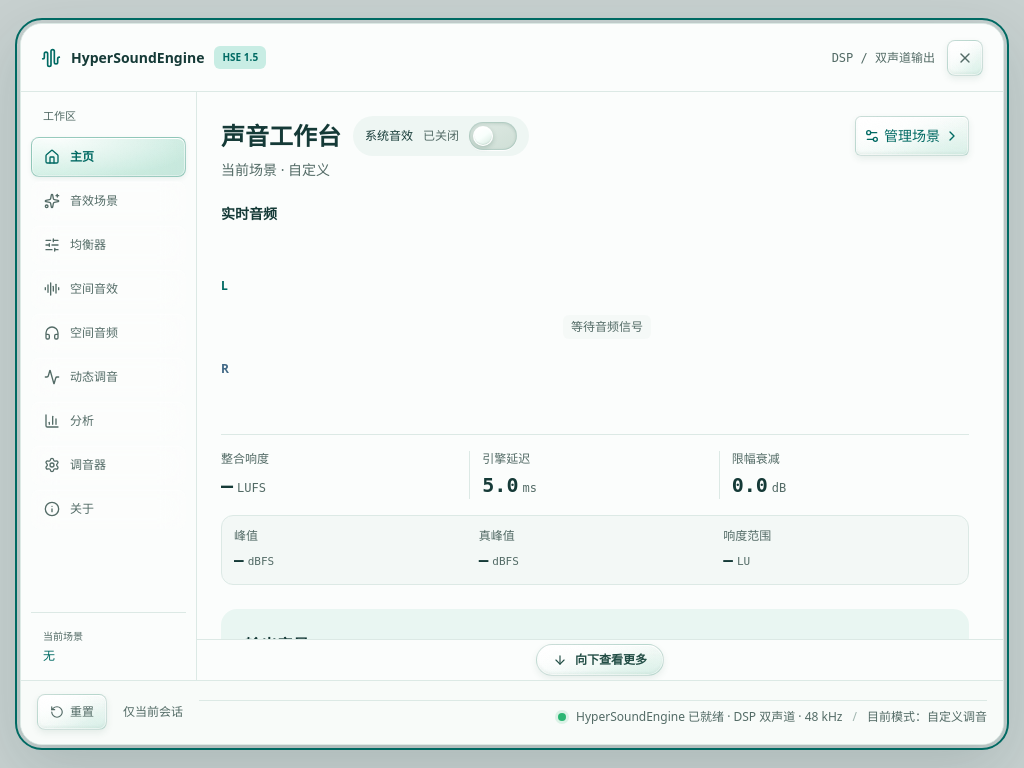
Test: HSE 调音室 UI 冒烟 › 耳机交叉馈送可从音效场景页启用并打开配置
This screenshot has width=1024, height=768.
Click the button "音效场景" at {"x": 108, "y": 200}, box [31,180,186,220]
(page scrolled)
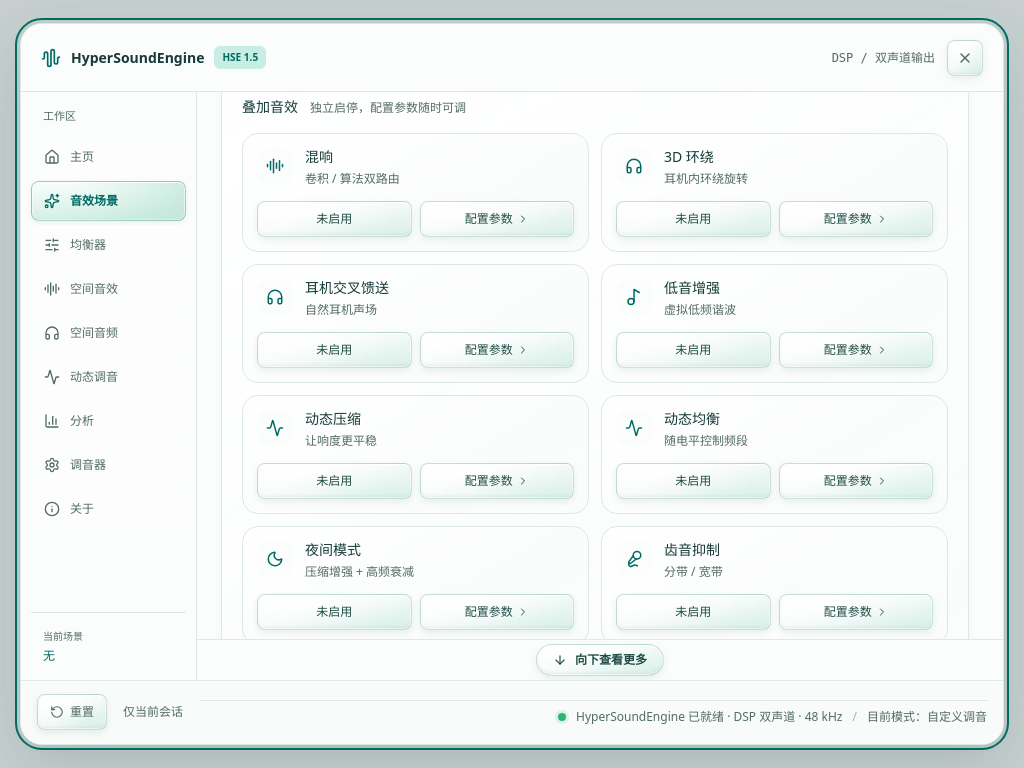
Click the button with aria-label "耳机交叉馈送启停" at {"x": 334, "y": 350}, box [257,332,412,368]
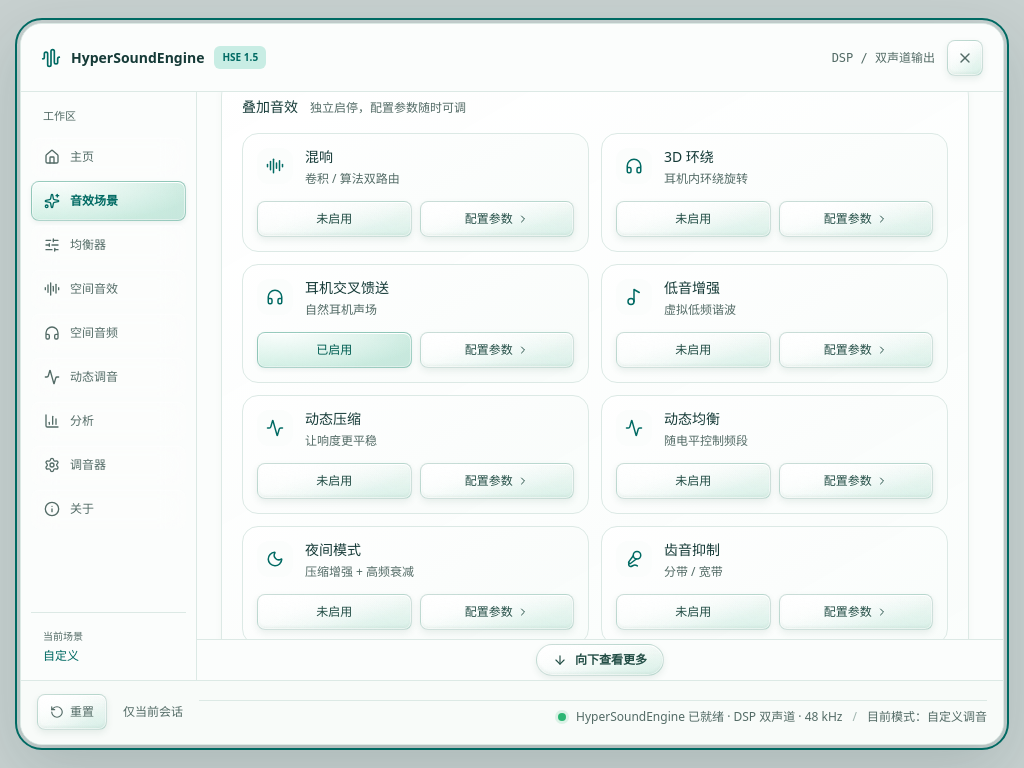
Click the button with aria-label "配置耳机交叉馈送" at {"x": 497, "y": 350}, box [420,332,574,368]
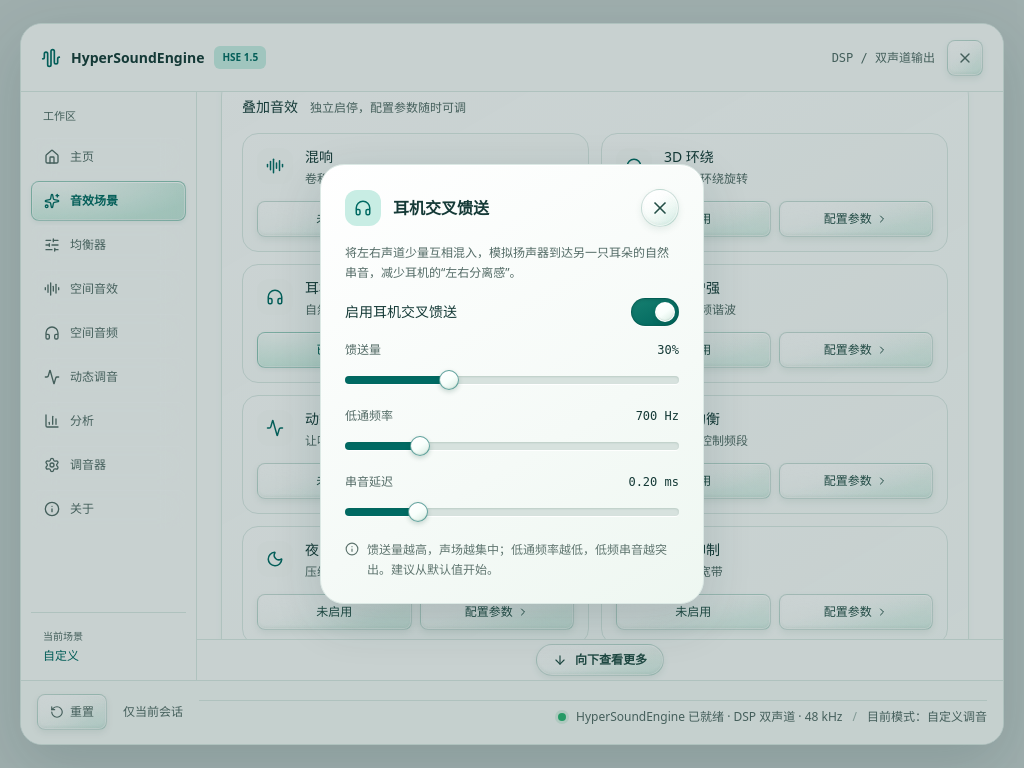
Check: the slider labelled "馈送量" is shown, box [345,376,679,384]
